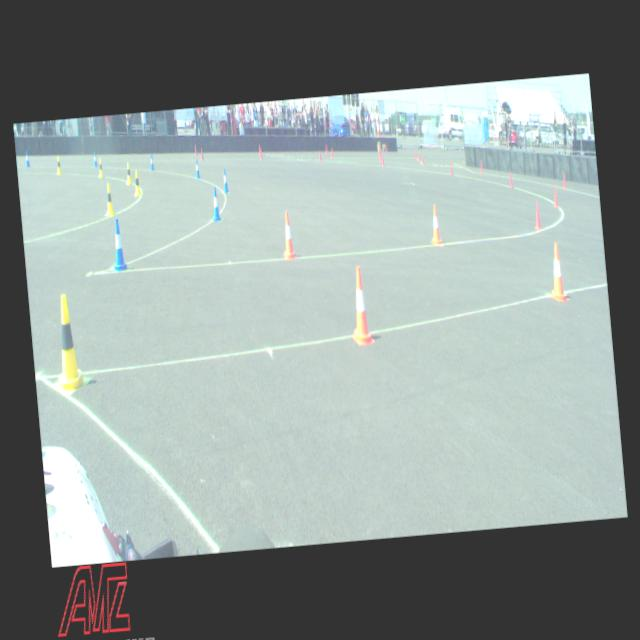blue_cone: (109, 218, 128, 271), (210, 187, 221, 220), (221, 168, 229, 192), (194, 158, 200, 178), (92, 151, 98, 167), (149, 154, 154, 170), (25, 150, 30, 166)
orange_cone: (346, 265, 374, 346), (545, 242, 569, 302), (280, 210, 296, 260), (428, 203, 442, 246)
unknown_cone: (532, 199, 541, 229), (552, 185, 558, 208), (508, 170, 512, 188), (562, 172, 566, 188), (450, 161, 452, 175), (422, 154, 424, 166)
yellow_cone: (46, 292, 88, 395), (104, 182, 115, 216), (132, 170, 142, 196), (125, 162, 132, 184), (55, 155, 62, 174), (98, 158, 104, 178)
